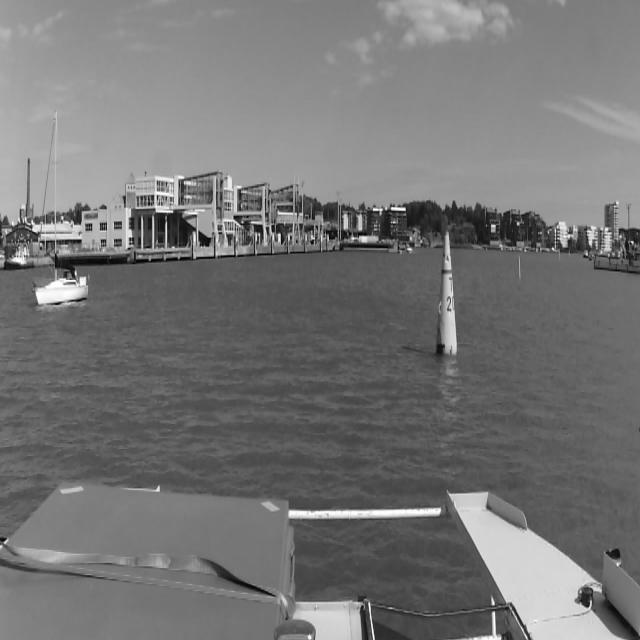buoy: (435, 227, 460, 361), (517, 254, 521, 281), (558, 247, 561, 265)
ship: (30, 113, 93, 312), (405, 245, 413, 256)
